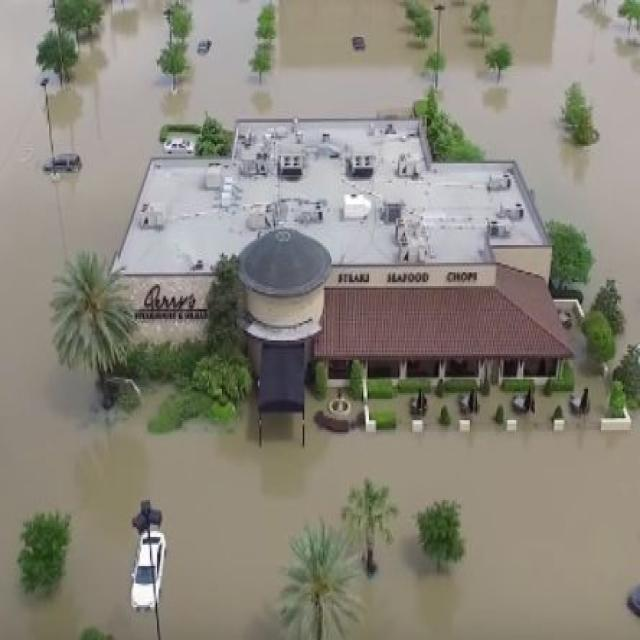flooded_areas: (52, 12, 594, 620)
